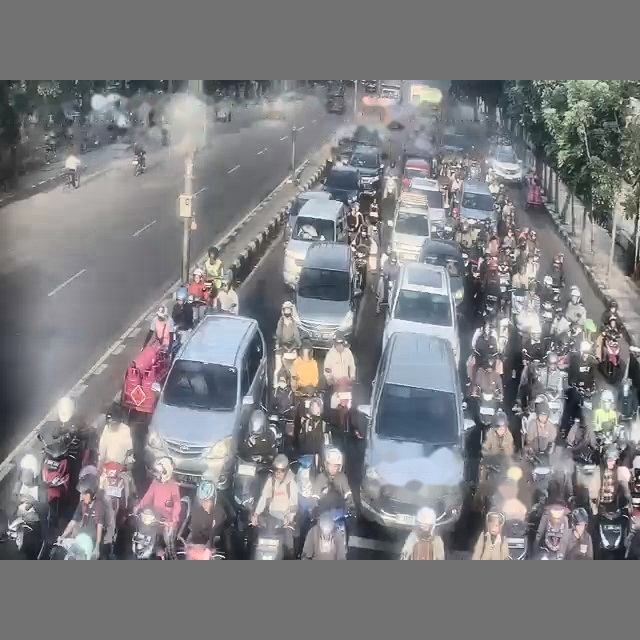Mobil: (358, 333, 474, 530), (145, 314, 267, 488), (383, 262, 459, 362), (295, 242, 361, 348), (283, 199, 347, 287), (419, 237, 464, 306), (387, 193, 430, 261), (407, 177, 453, 238), (287, 190, 331, 229), (458, 180, 496, 225), (349, 145, 383, 195), (323, 165, 359, 204), (489, 146, 523, 184), (400, 140, 436, 171), (351, 125, 386, 154), (440, 132, 474, 161), (403, 156, 432, 187), (262, 96, 286, 119), (327, 94, 345, 113), (214, 104, 231, 121), (363, 80, 378, 93)
Motor: (38, 423, 88, 527), (132, 507, 172, 559), (597, 509, 628, 555)
